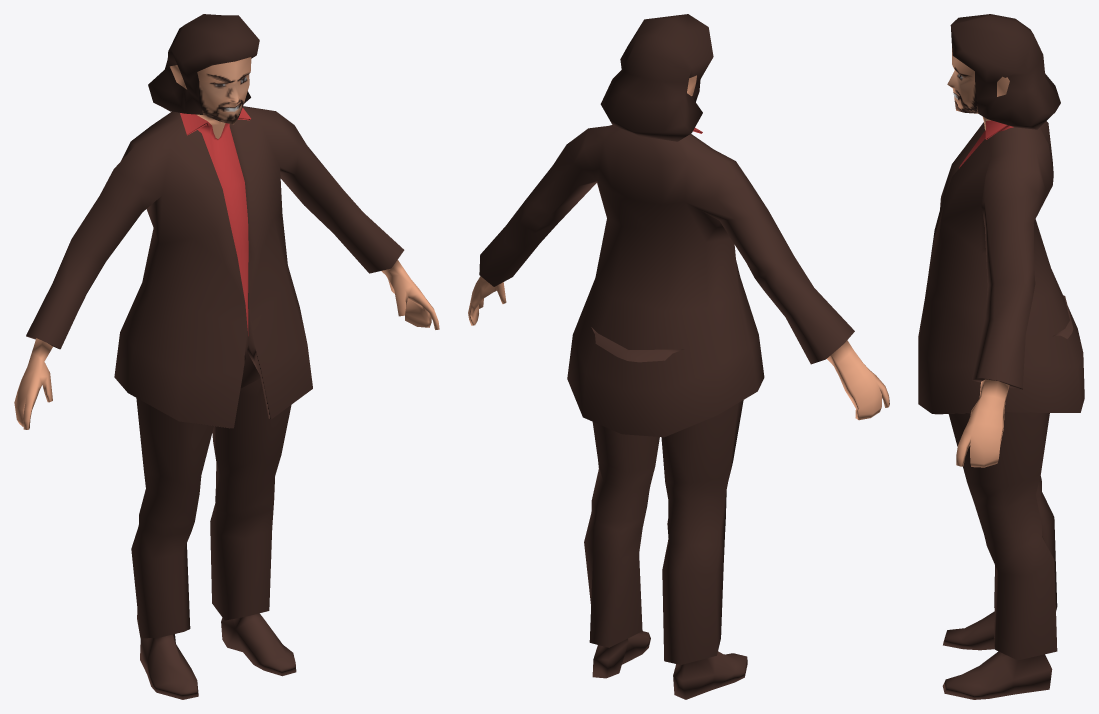
Rendered from CharMattBerry.fbx.
3 views of the same model, side by side, from view 1: azimuth 30°, elevation 25°; view 2: azimuth 150°, elevation 25°; view 3: azimuth 270°, elevation 25° (orthographic).
Parts seen in each view (by area): view 1: CharMattBerry; view 2: CharMattBerry; view 3: CharMattBerry.
Boxes of the visible parts, x1,y1,x2,y2 form: CharMattBerry: (14, 14, 439, 699); CharMattBerry: (468, 14, 889, 699); CharMattBerry: (918, 14, 1084, 699).
Bounding box in the file's own units: 121 × 182 × 42.2.
